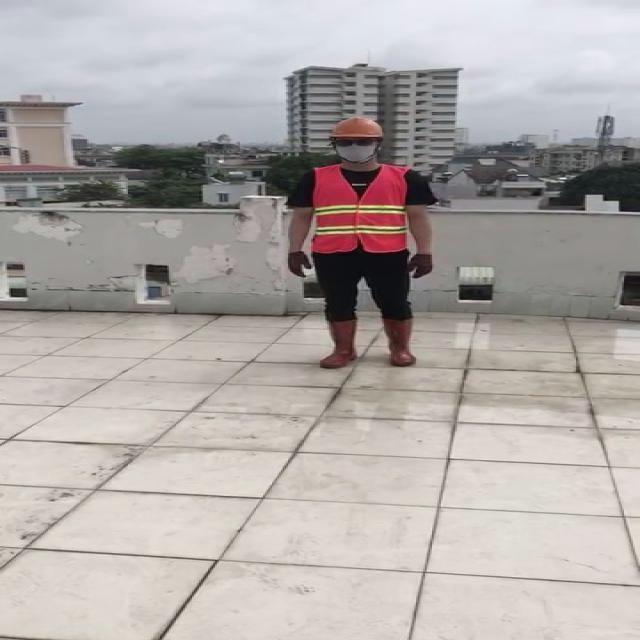10: (271, 114, 446, 374)
11: (309, 164, 409, 253)
2: (306, 112, 391, 191)
helmet_white: (320, 318, 364, 368), (404, 233, 444, 287), (384, 318, 418, 366)
